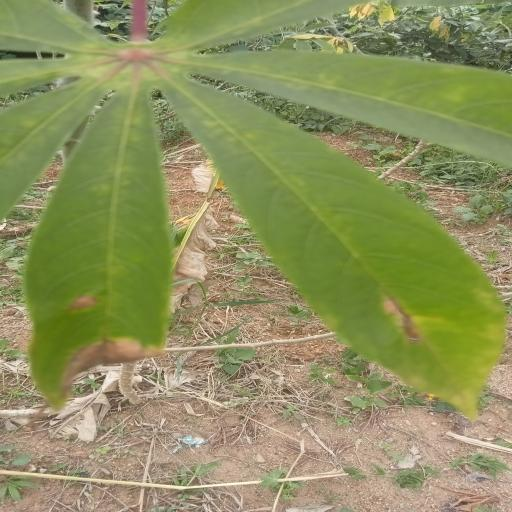Cassava_Brown_Leaf_Spot: (7, 0, 512, 412)
